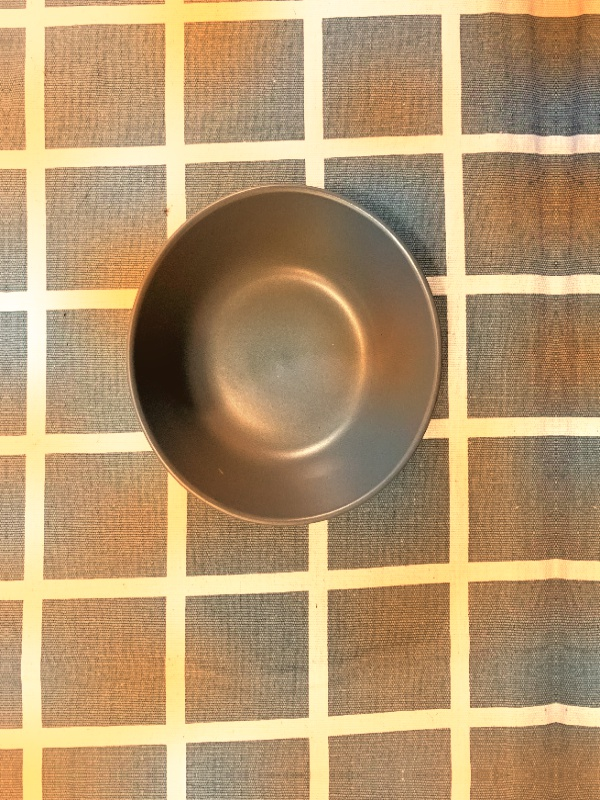bowl_big: (121, 162, 454, 534)
